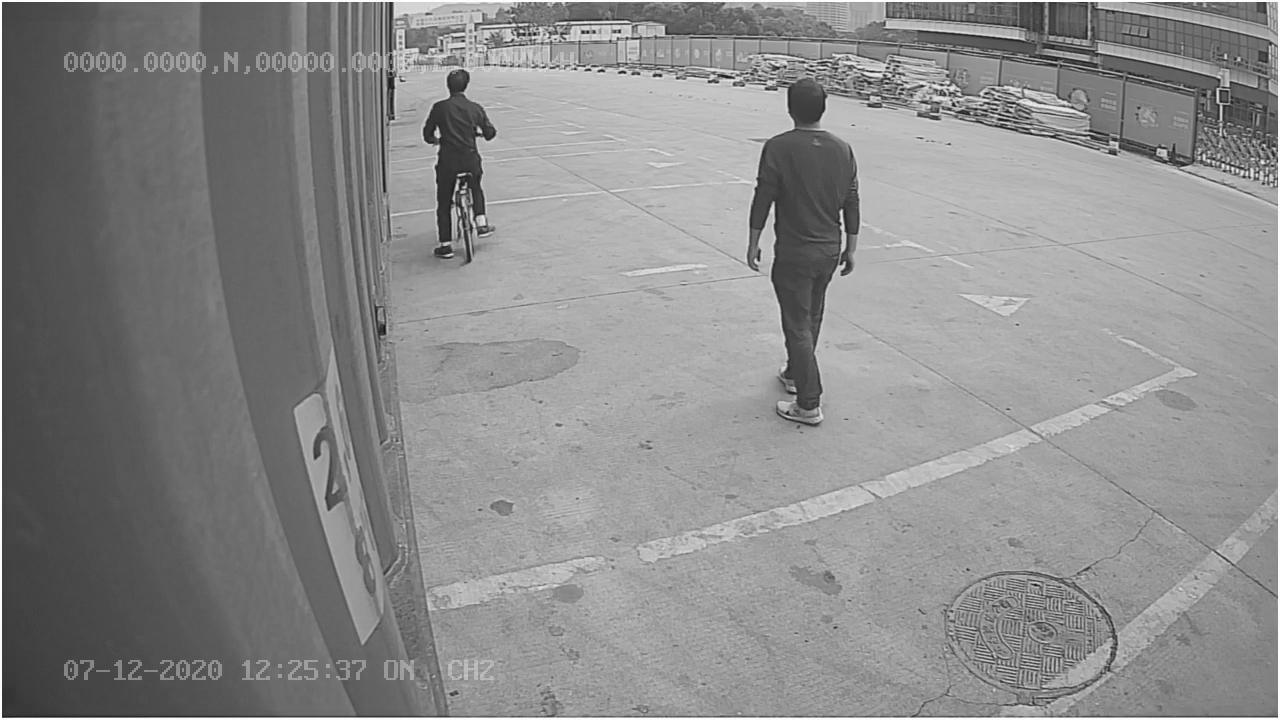person: (738, 71, 868, 434)
